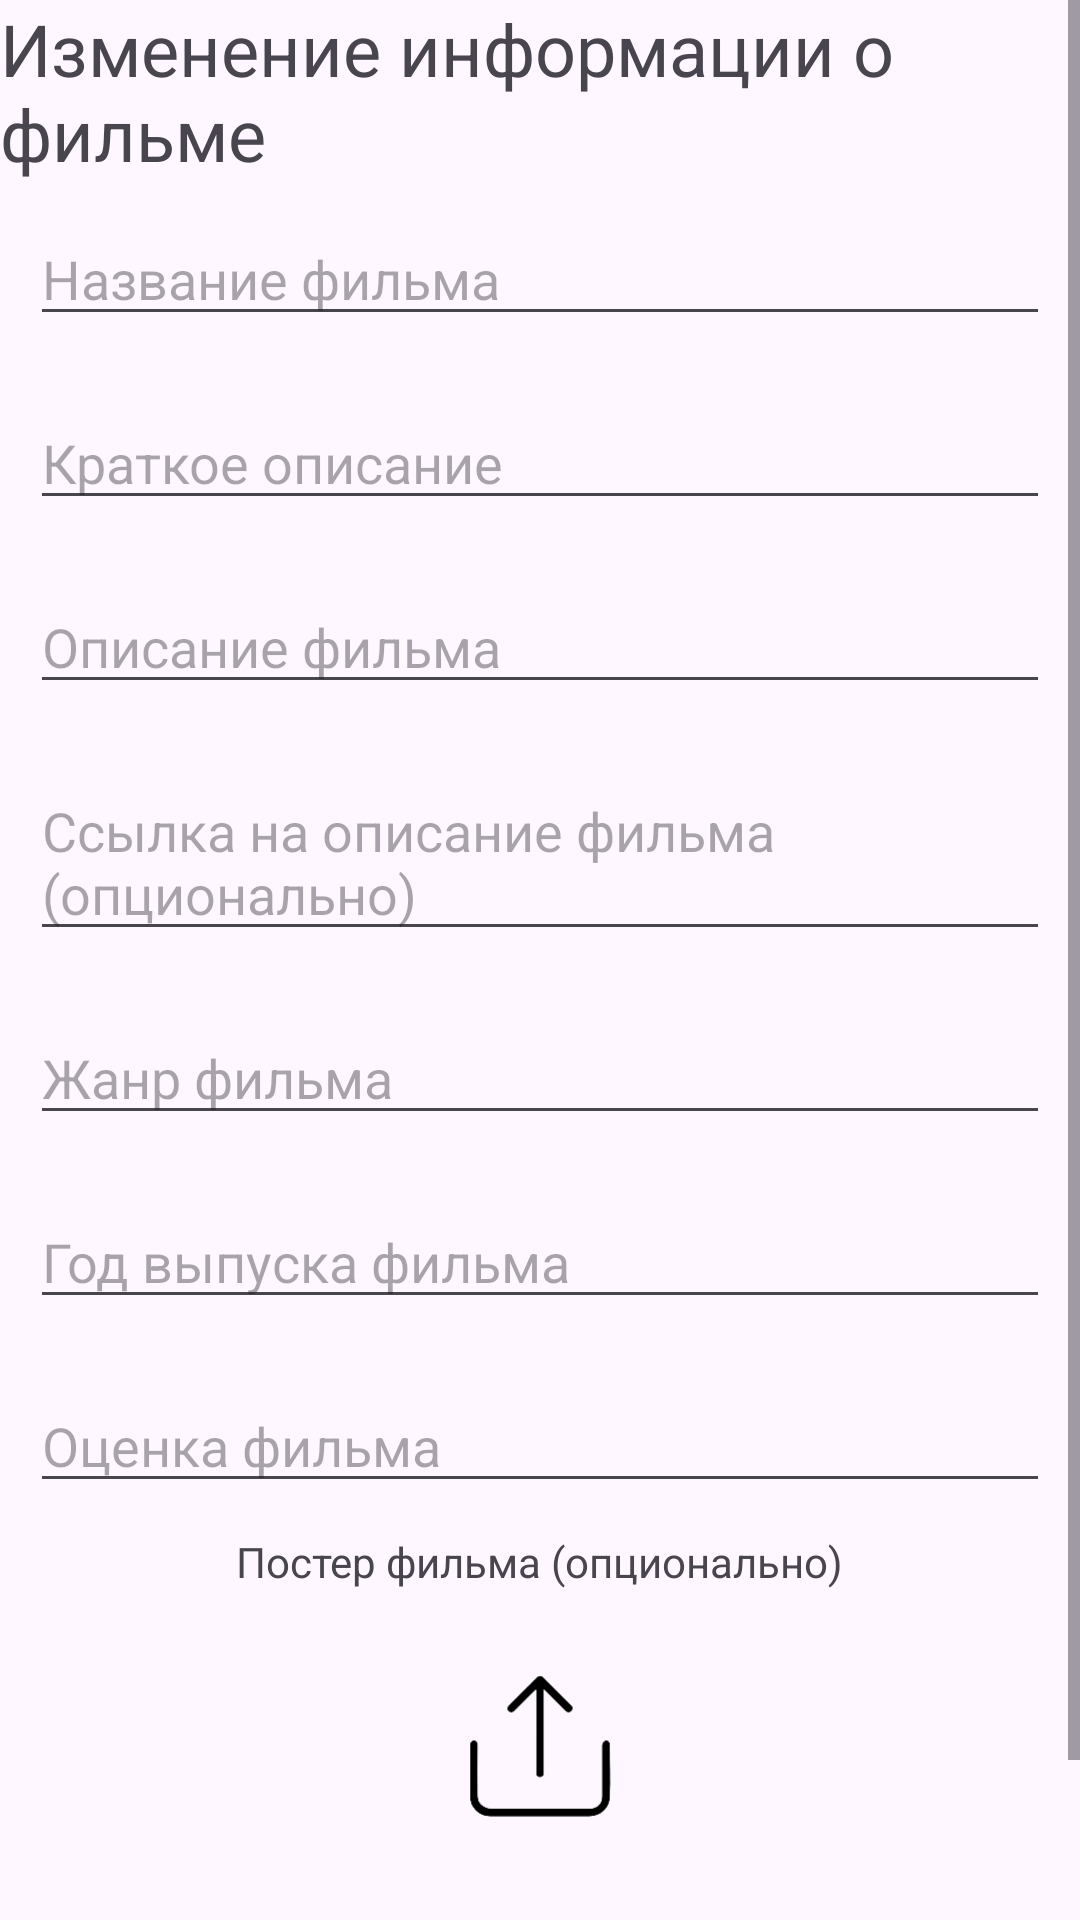

Icons on this 1080 x 1920 Android screen, each with its box as (x1, y1, x2, y2):
upload: (470, 1676, 611, 1817)
